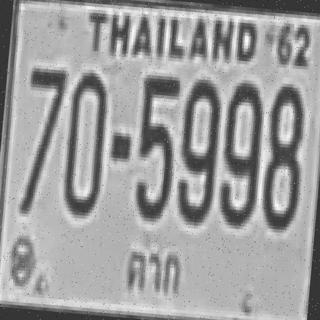N00: (60, 68, 108, 213)
N05: (131, 71, 180, 220)
N07: (17, 64, 66, 213), (21, 64, 66, 169)
N08: (258, 79, 307, 228)
N09: (216, 79, 265, 224), (174, 75, 221, 223)
P69: (119, 241, 188, 303)
